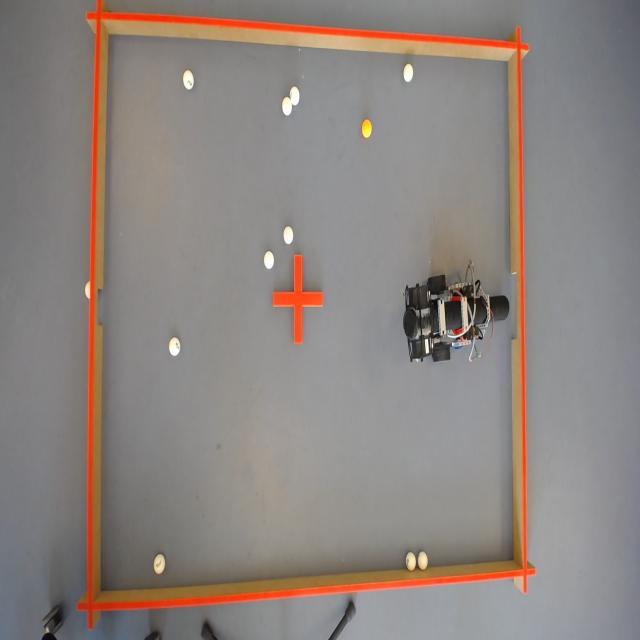orange-golf-balls: (362, 118, 372, 137)
robot: (403, 261, 510, 361)
white-golf-balls: (153, 554, 165, 575), (168, 336, 180, 356), (183, 68, 194, 88), (406, 552, 417, 572), (418, 551, 429, 571), (289, 85, 300, 104), (282, 95, 292, 114), (404, 62, 414, 80), (264, 250, 274, 268), (283, 225, 293, 243), (84, 280, 90, 298)
